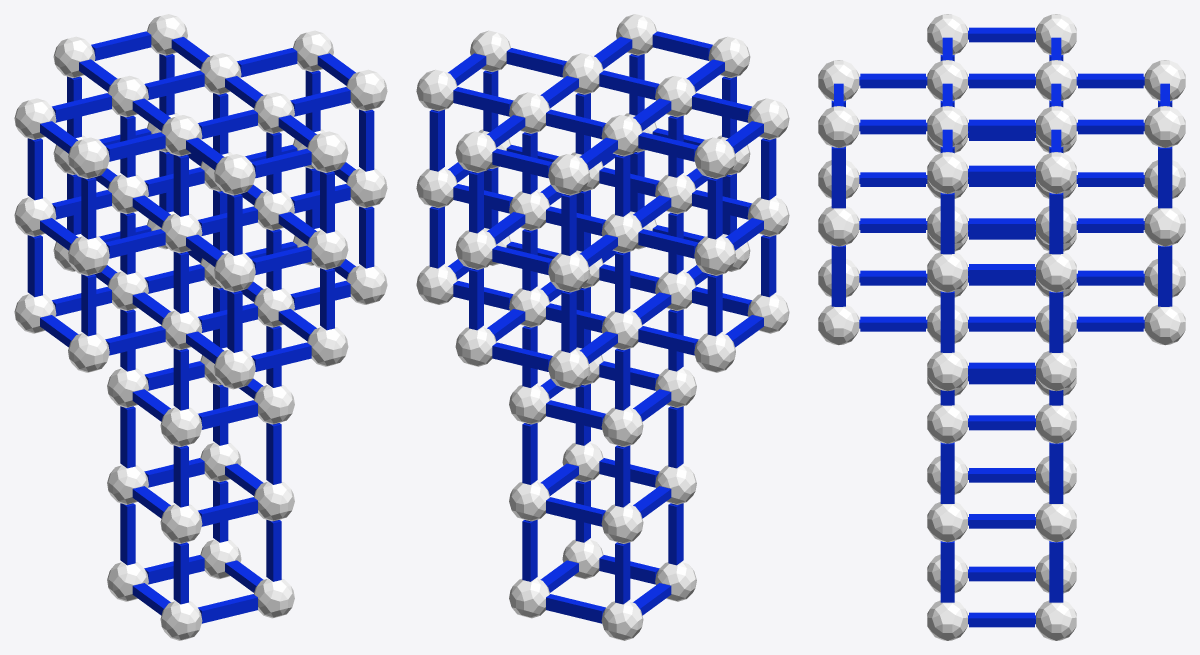
Rendered from doraemon_out.obj.
The picture shows the model from 3 angles, left to right: view 1: azimuth 30°, elevation 25°; view 2: azimuth 150°, elevation 25°; view 3: azimuth 270°, elevation 25°; orthographic projection.
Bounding box in the file's own units: 160 × 254 × 160.
